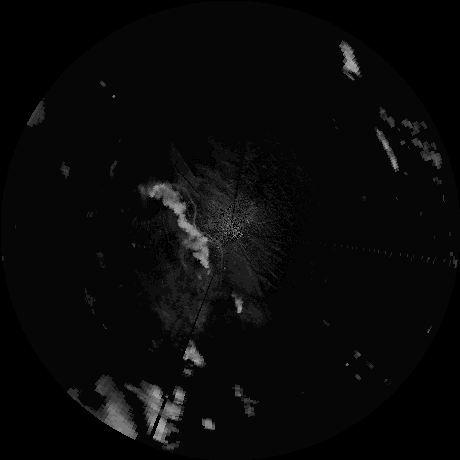frontgust: (174, 184, 199, 229), (203, 230, 225, 266)
